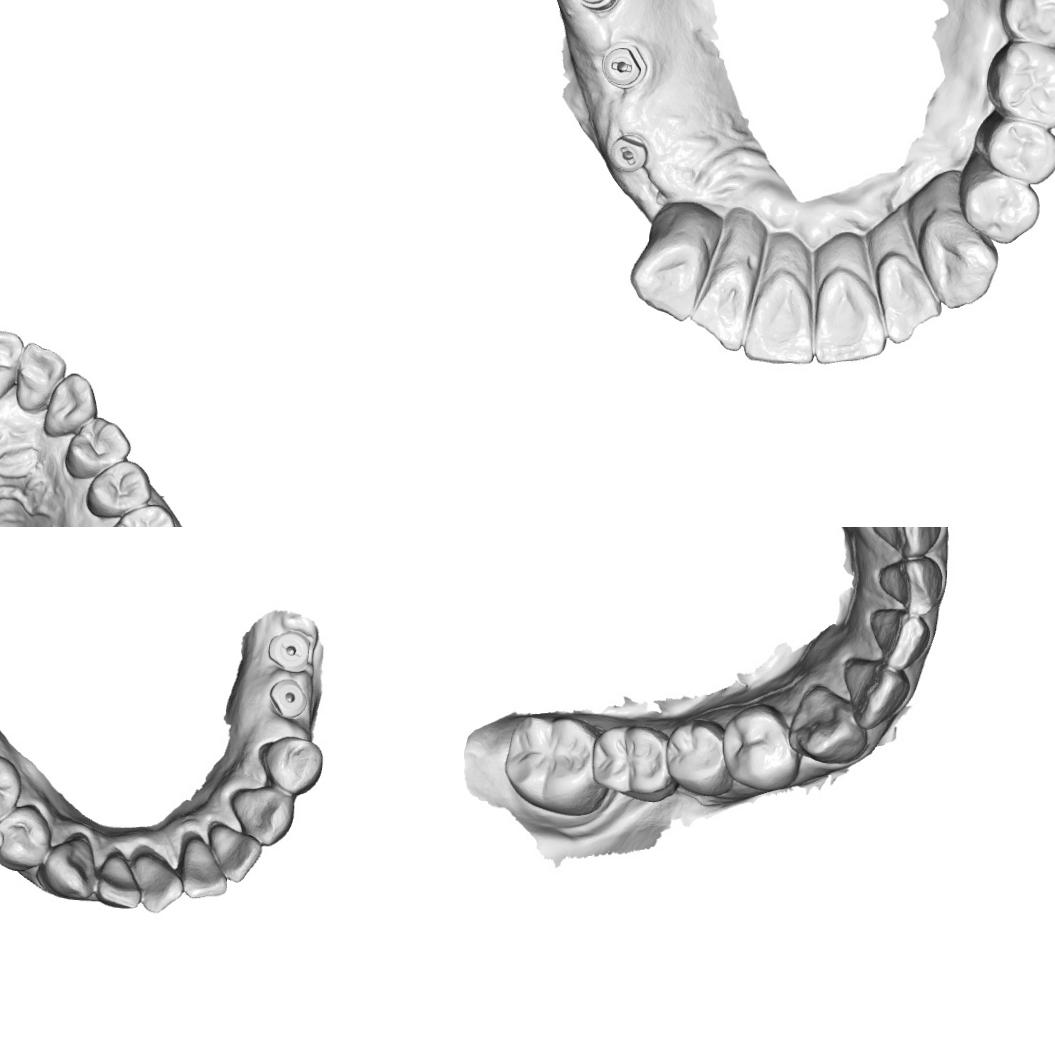canine: (914, 209, 998, 313), (626, 222, 702, 325), (792, 684, 868, 765), (228, 784, 296, 847), (40, 833, 100, 903), (41, 371, 100, 439)
implant: (268, 676, 308, 716)
implant_minus: (596, 39, 648, 94), (606, 130, 650, 173), (270, 628, 312, 670)
incisor: (811, 264, 893, 367), (738, 272, 816, 369), (876, 251, 946, 349), (688, 261, 753, 353), (842, 660, 910, 727), (131, 838, 184, 914), (865, 601, 926, 663), (15, 342, 67, 413), (878, 552, 939, 610), (175, 836, 229, 900), (94, 847, 141, 912), (210, 826, 262, 884), (869, 527, 938, 555), (0, 327, 24, 405)
molar: (499, 710, 605, 816), (594, 722, 672, 803), (988, 39, 1055, 126), (996, 0, 1055, 46), (96, 502, 183, 527)
premolar: (958, 170, 1040, 247), (726, 708, 793, 784), (668, 716, 731, 796), (982, 116, 1055, 185), (62, 415, 133, 481), (260, 734, 326, 796), (84, 459, 152, 519), (0, 803, 49, 870), (0, 754, 20, 821)
